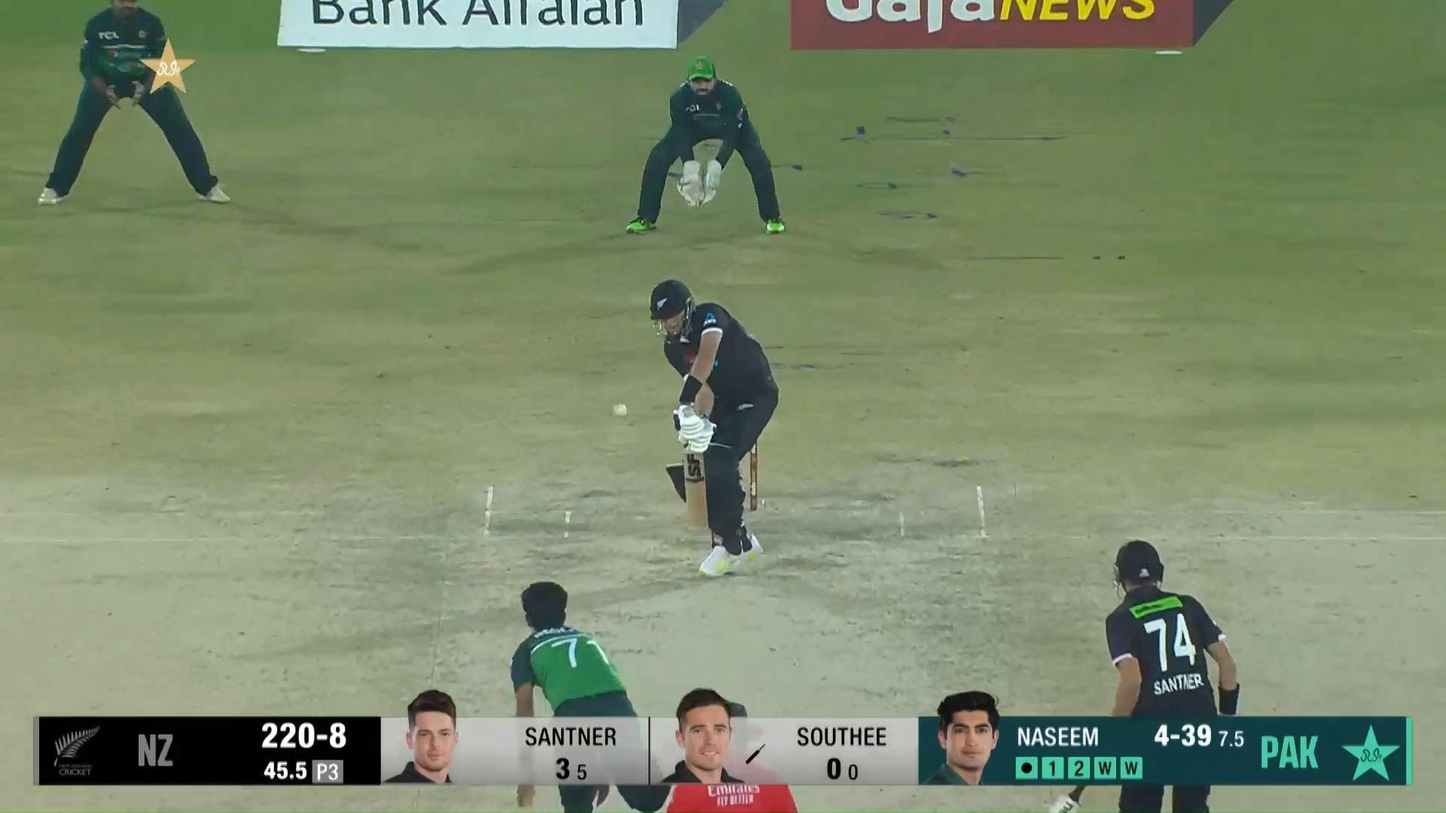BM 1: (649, 278, 781, 581)
BO: (507, 579, 706, 813)
